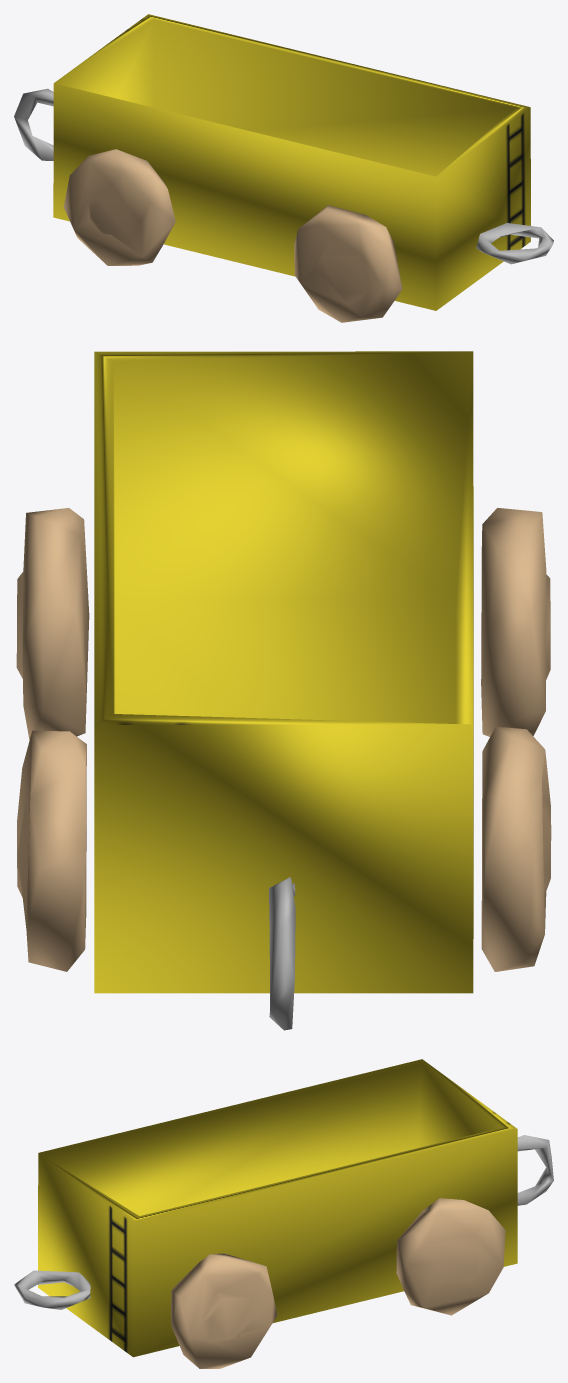
File: yellow_LOD1.fbx
The picture shows the model from 3 angles, top to bottom: view 1: azimuth 30°, elevation 25°; view 2: azimuth 150°, elevation 25°; view 3: azimuth 270°, elevation 25°; orthographic projection. The views are drawn at different scales.
Visible parts, largest first — view 1: vagone7; view 2: vagone7; view 3: vagone7.
Boxes of the visible parts, left/top/right/bottom form: vagone7: left=14, top=14, right=553, bottom=322; vagone7: left=16, top=351, right=551, bottom=1030; vagone7: left=14, top=1059, right=553, bottom=1368.
Size of the model in its own units: 425 by 183 by 563.
3 materials, 1 textured.
